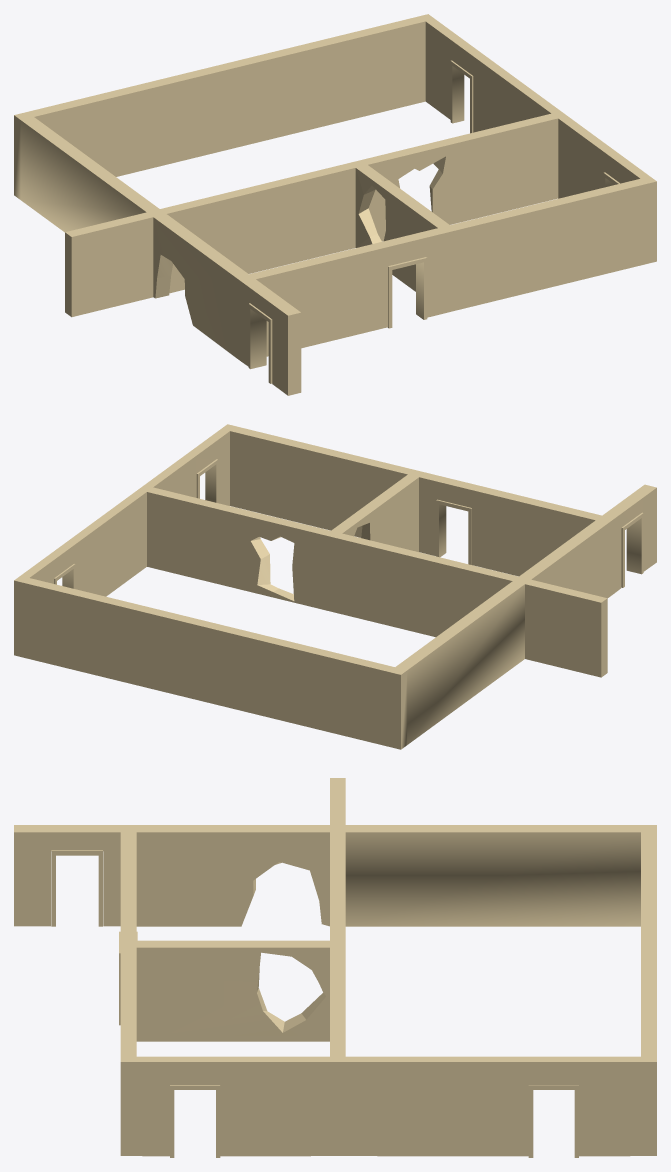
File: QuartoCentralLow.fbx
The picture shows the model from 3 angles, top to bottom: view 1: azimuth 30°, elevation 25°; view 2: azimuth 150°, elevation 25°; view 3: azimuth 270°, elevation 25°; orthographic projection. The views are drawn at different scales.
Parts seen in each view (by area): view 1: QuartoCentral.003; view 2: QuartoCentral.003; view 3: QuartoCentral.003.
Part boxes in pixels (x1,y1,x2,y2): QuartoCentral.003: (14,14,656,395); QuartoCentral.003: (14,424,656,749); QuartoCentral.003: (14,778,656,1157).
Size of the model in its own units: 2596 by 405 by 2479.
